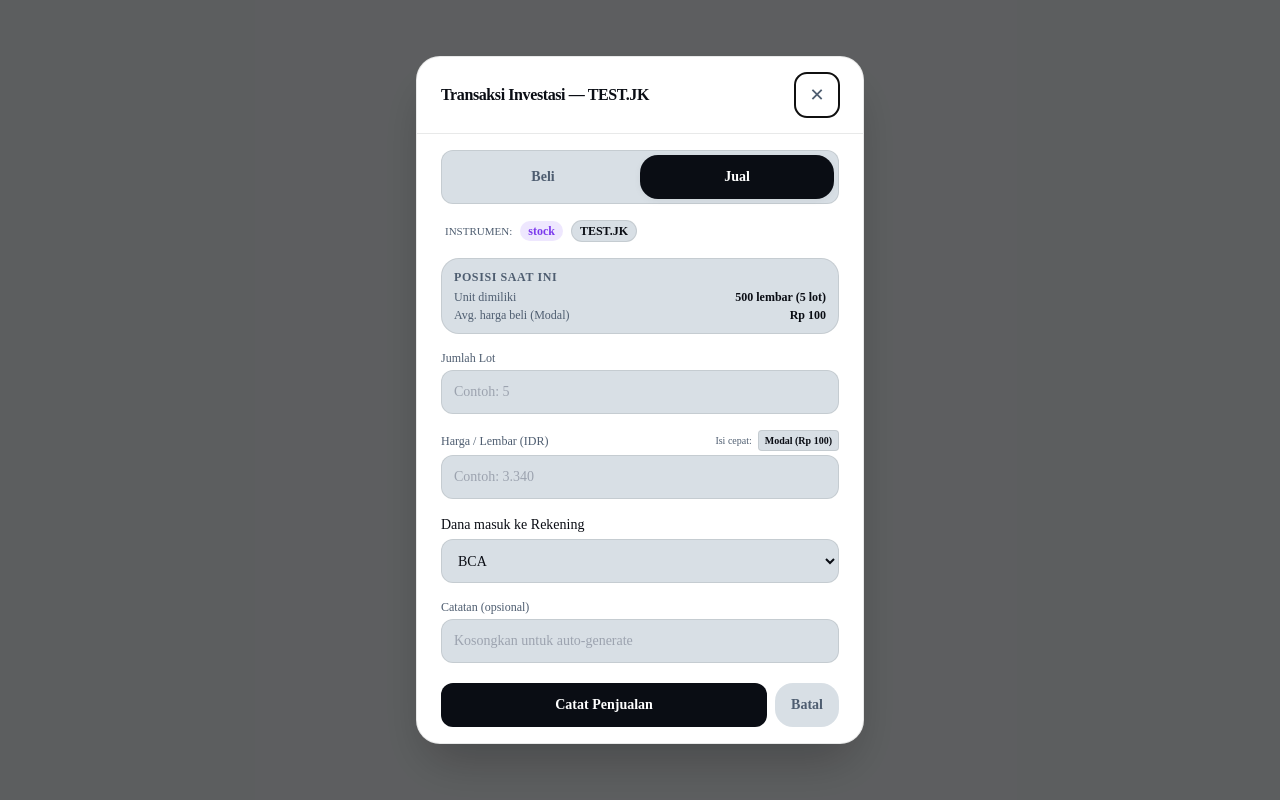
Test case: InvestmentTradeModal › maps a stale owned-unit rejection to the unit input
Step 1. Type "1" into the number field labelled "Jumlah Lot" → (640, 392), box x1=441 y1=370 x2=839 y2=414
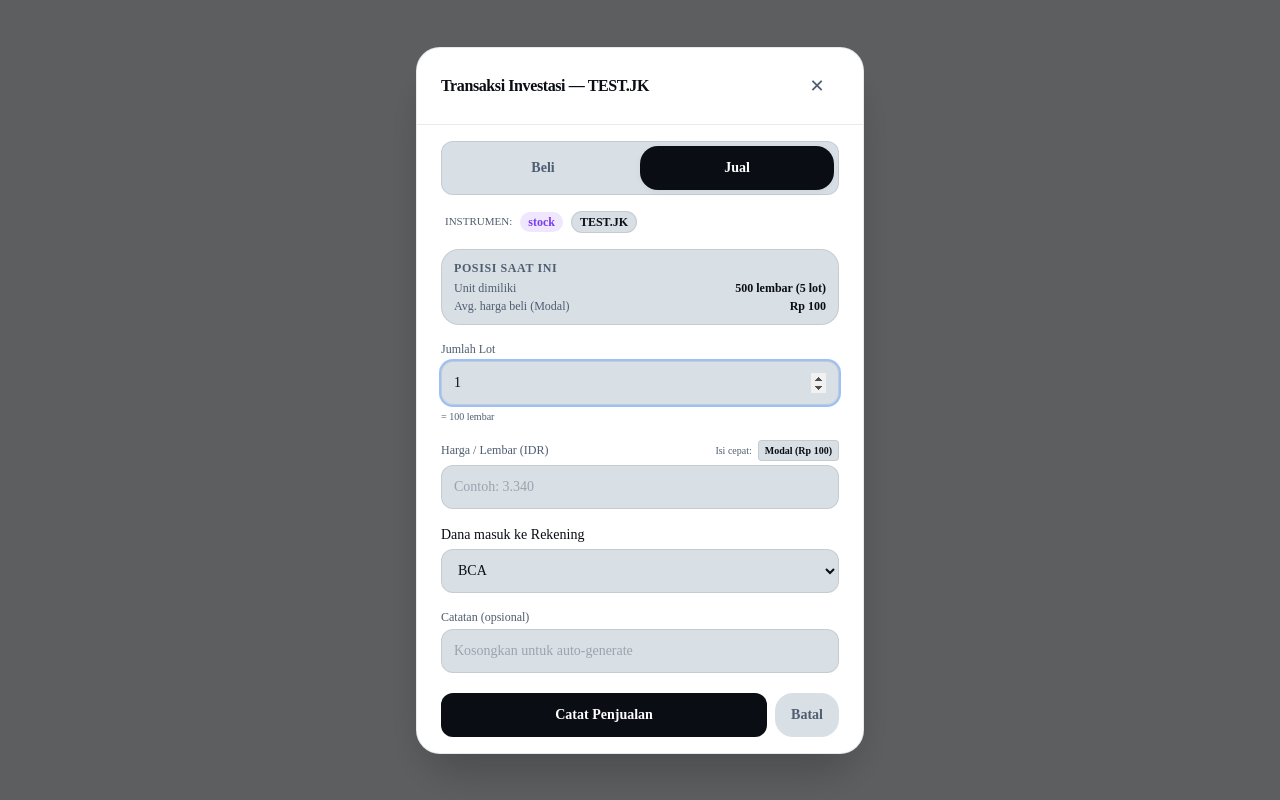
Step 2. Type "100" into the field labelled "Harga / Lembar (IDR)" → (640, 486), box x1=441 y1=464 x2=839 y2=508
(page scrolled)
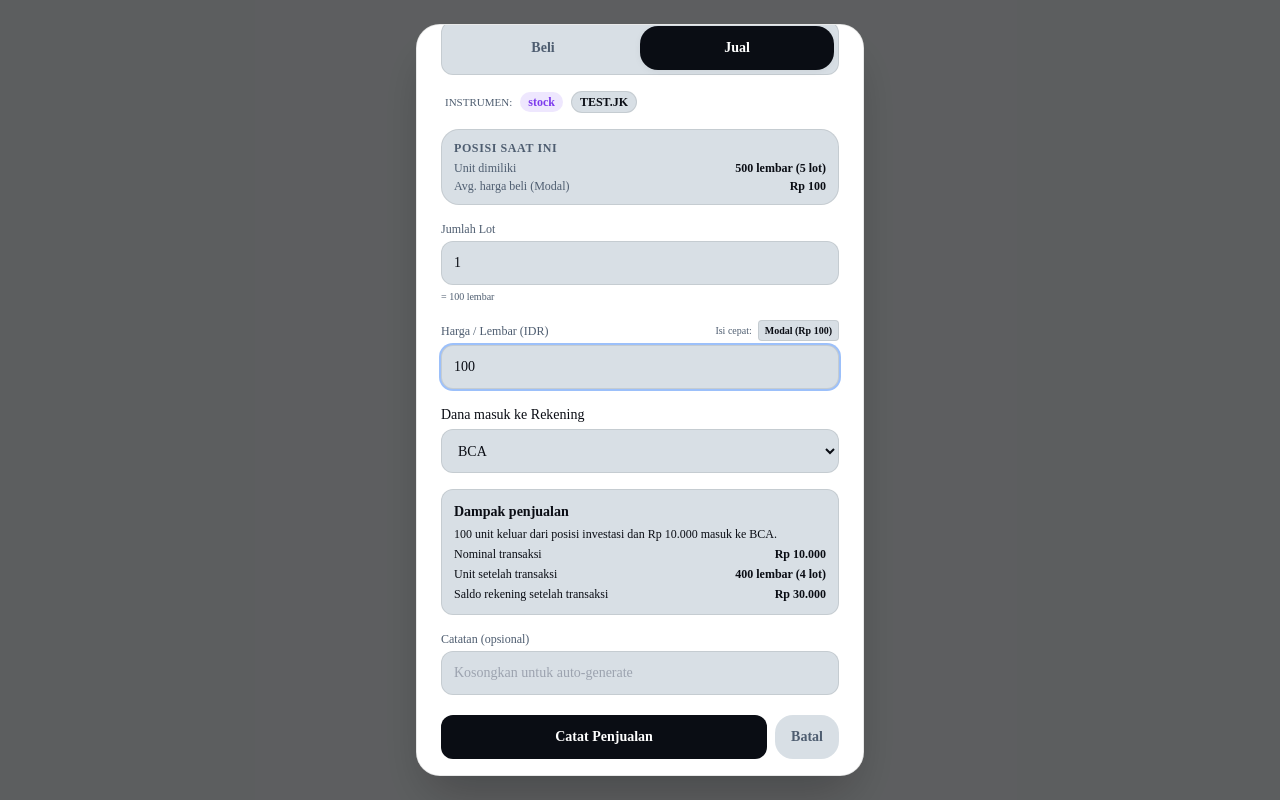
Step 3. Click the button "Catat Penjualan" → (604, 737), box x1=441 y1=715 x2=767 y2=759
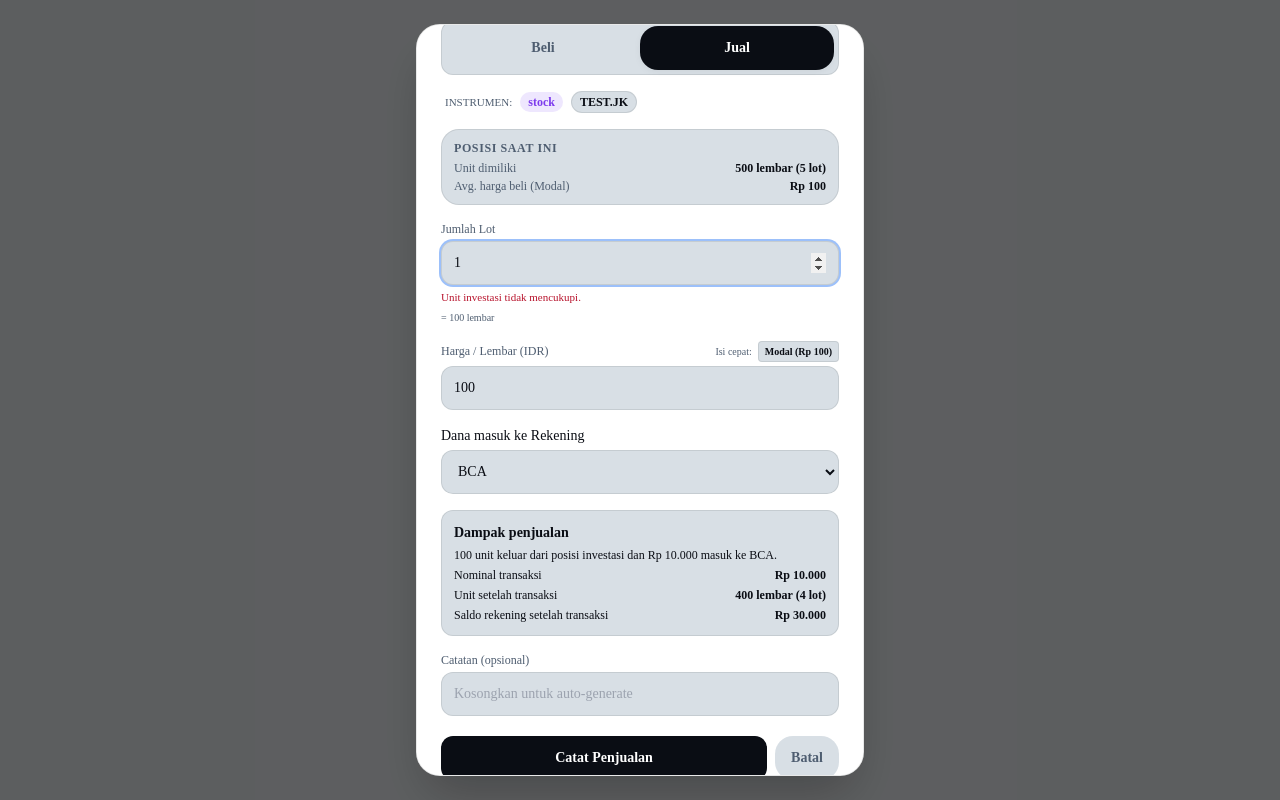
Result: the message shows "Unit investasi tidak mencukupi" at x1=441 y1=291 x2=581 y2=303
